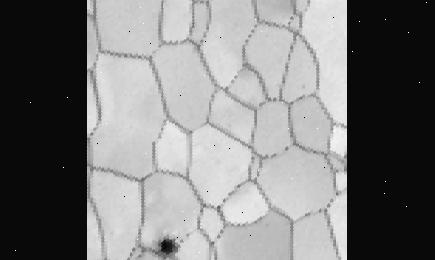good_void: (150, 232, 183, 258), (301, 82, 308, 90)
